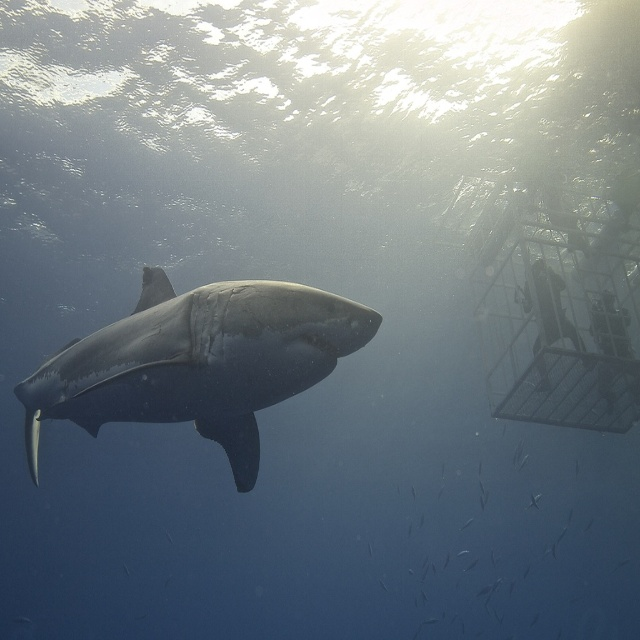Shark: (18, 264, 382, 495)
